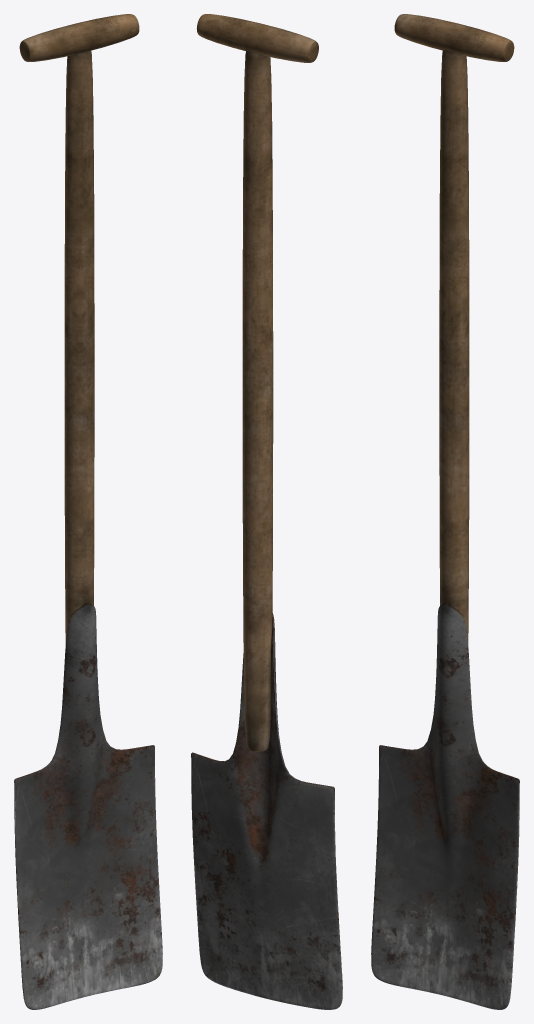
File: rusted_spade_01.glb
The picture shows the model from 3 angles, left to right: view 1: azimuth 30°, elevation 25°; view 2: azimuth 150°, elevation 25°; view 3: azimuth 330°, elevation 25°; orthographic projection. The views are drawn at different scales.
Visible parts, largest first — view 1: rusted_spade_01; view 2: rusted_spade_01; view 3: rusted_spade_01.
Part boxes in pixels (x1,y1,x2,y2): rusted_spade_01: (14, 14, 162, 1009); rusted_spade_01: (191, 14, 342, 1009); rusted_spade_01: (371, 14, 519, 1009).
Bounding box in the file's own units: 0.1681 × 1.1 × 0.0456.
Materials: 1 (1 with a texture image).
